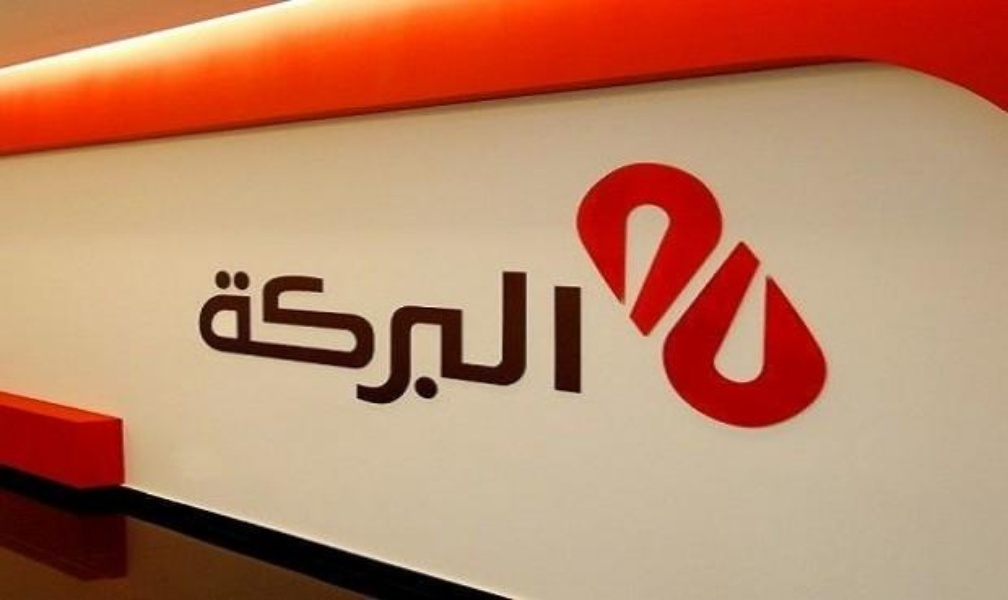text: (209, 267, 224, 436), (225, 267, 240, 436), (241, 267, 256, 436), (257, 267, 272, 436), (273, 267, 288, 436), (289, 267, 304, 436), (305, 267, 320, 436), (321, 267, 336, 436), (337, 267, 352, 436), (353, 267, 368, 436), (369, 267, 384, 436), (385, 267, 400, 436), (401, 267, 416, 436), (417, 267, 432, 436), (433, 267, 448, 436), (449, 267, 464, 436), (465, 267, 480, 436), (481, 267, 496, 436), (497, 267, 512, 436), (513, 267, 528, 436), (529, 267, 544, 436), (545, 267, 560, 436), (561, 267, 576, 436), (577, 267, 587, 436), (202, 267, 208, 436)
